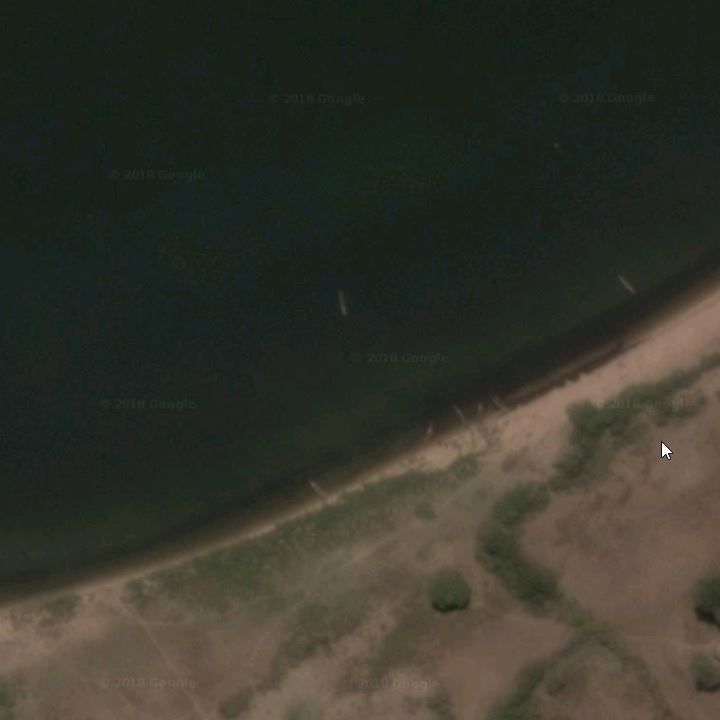boat: (609, 269, 647, 308), (302, 473, 333, 508), (446, 397, 471, 430), (487, 391, 518, 415), (334, 286, 351, 324), (419, 413, 436, 450), (472, 391, 487, 428)
